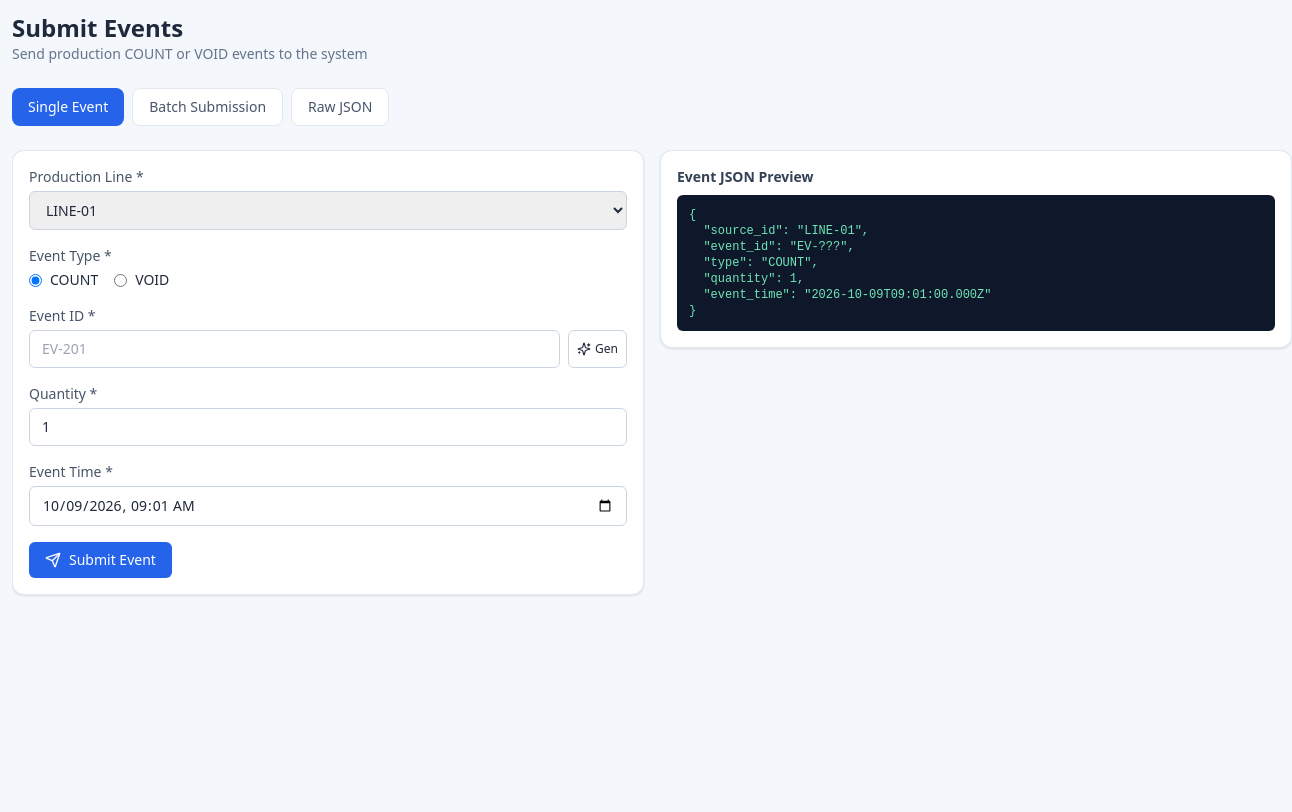
it: SubmitEvents › shows inline validation for invalid quantity
Type "EV-700" into the field with placeholder "EV-201" at coordinates (295, 349), box [29, 330, 560, 368]
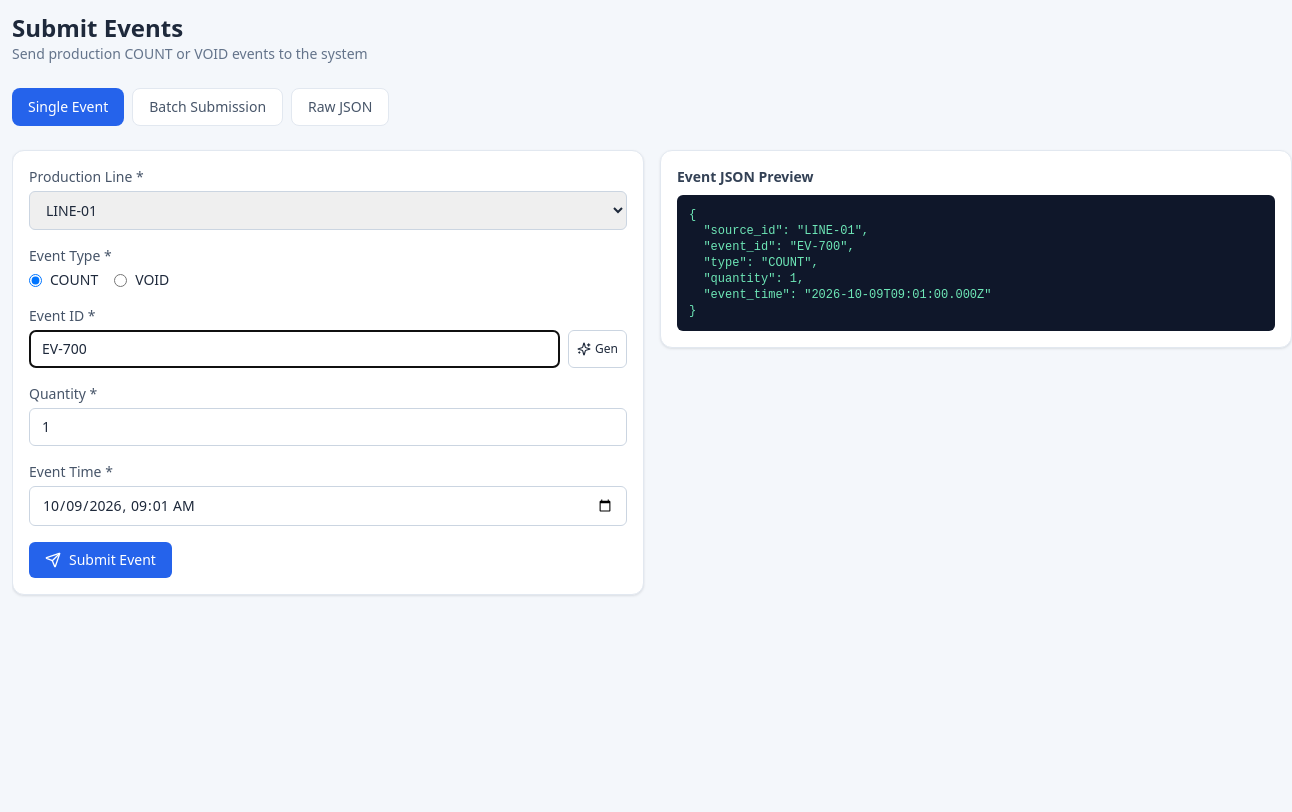
Replace the text in the number field with "-3" at coordinates (328, 427), box [29, 408, 627, 446]
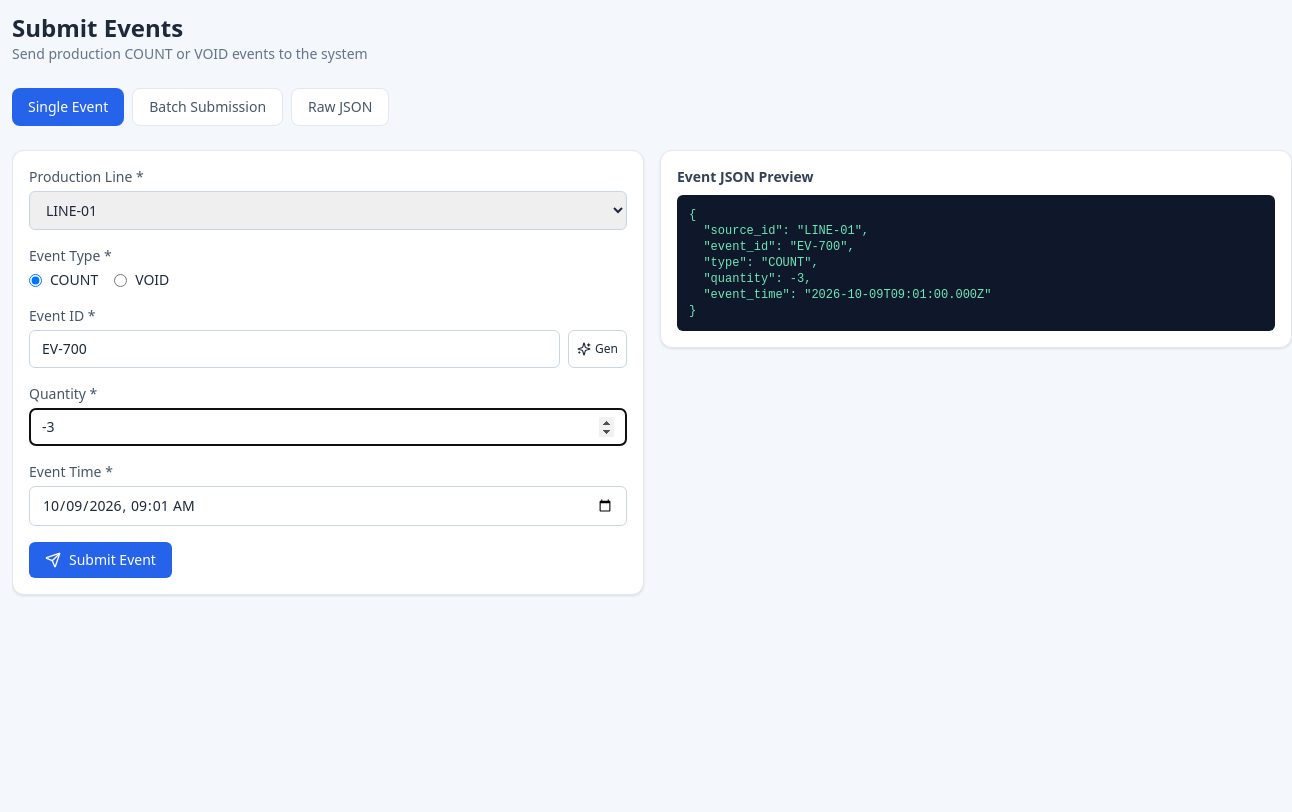
Click the button "Submit Event" at coordinates (100, 560), box [29, 542, 172, 578]
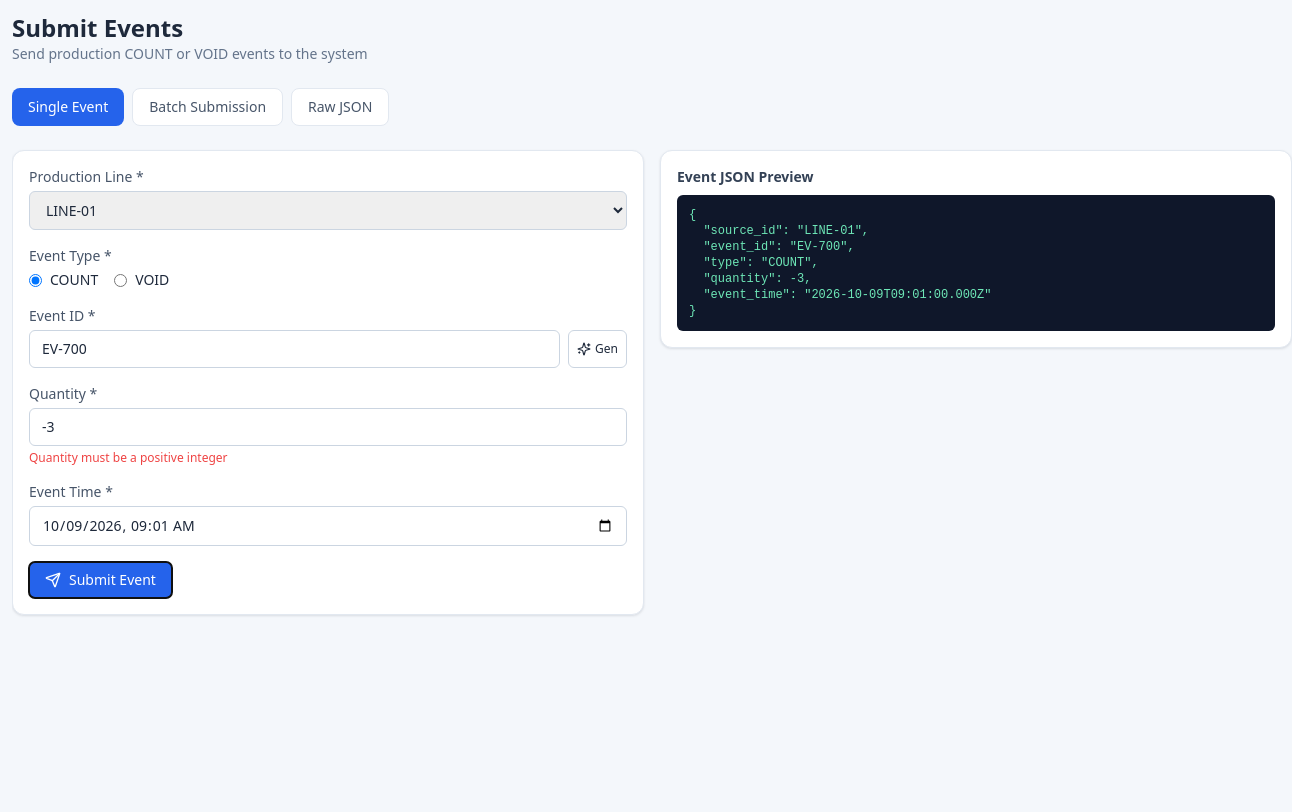
Check: the text "Quantity must be a positive integer" is shown, box [29, 449, 228, 466]
